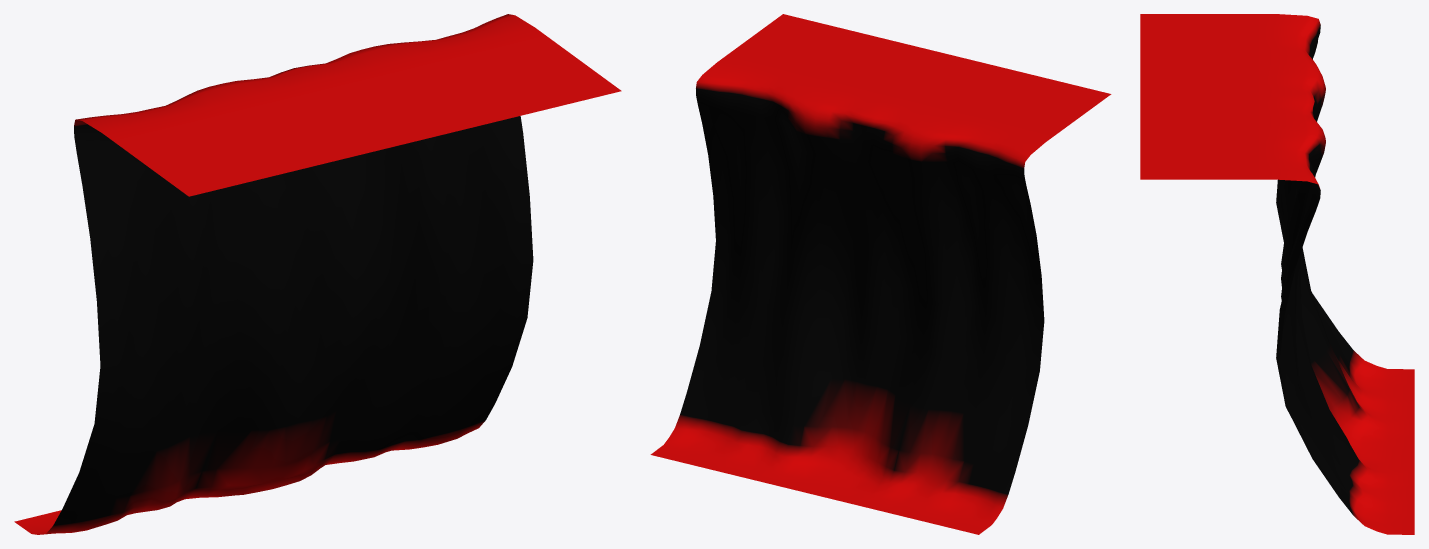
The model's file is GroundCliff01A 2M Foreground.fbx.
The picture shows the model from 3 angles, left to right: view 1: azimuth 30°, elevation 25°; view 2: azimuth 150°, elevation 25°; view 3: azimuth 270°, elevation 25°; orthographic projection. The views are drawn at different scales.
Visible parts, largest first — view 1: GroundCliff01A 2M Foreground; view 2: GroundCliff01A 2M Foreground; view 3: GroundCliff01A 2M Foreground.
Boxes of the visible parts, bbox=[...] form: GroundCliff01A 2M Foreground: bbox=[14, 14, 621, 534]; GroundCliff01A 2M Foreground: bbox=[650, 14, 1111, 534]; GroundCliff01A 2M Foreground: bbox=[1140, 14, 1414, 534].
Size of the model in its own units: 2 by 2 by 1.4.
